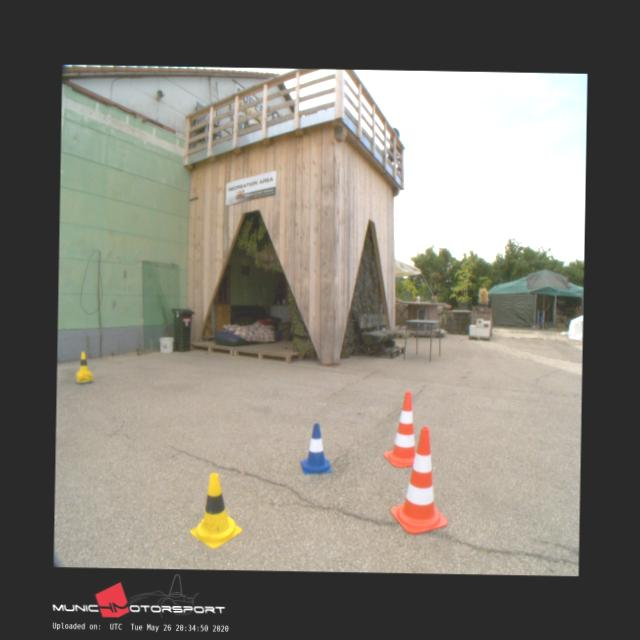blue_cone: (300, 422, 332, 473)
large_orange_cone: (391, 427, 448, 522), (384, 392, 421, 466)
yellow_cone: (188, 472, 242, 548), (75, 351, 90, 373)
